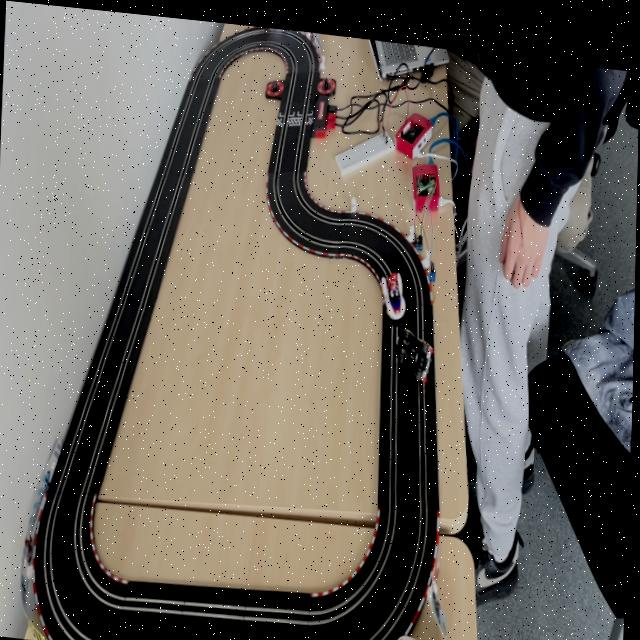mario: (380, 261, 407, 316)
